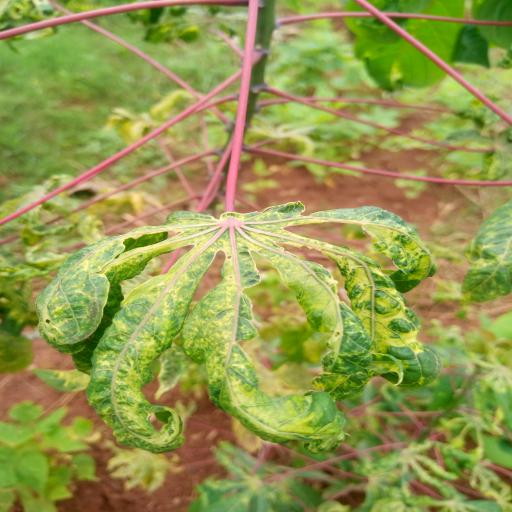Cassava_Mosaic: (34, 204, 446, 460)
